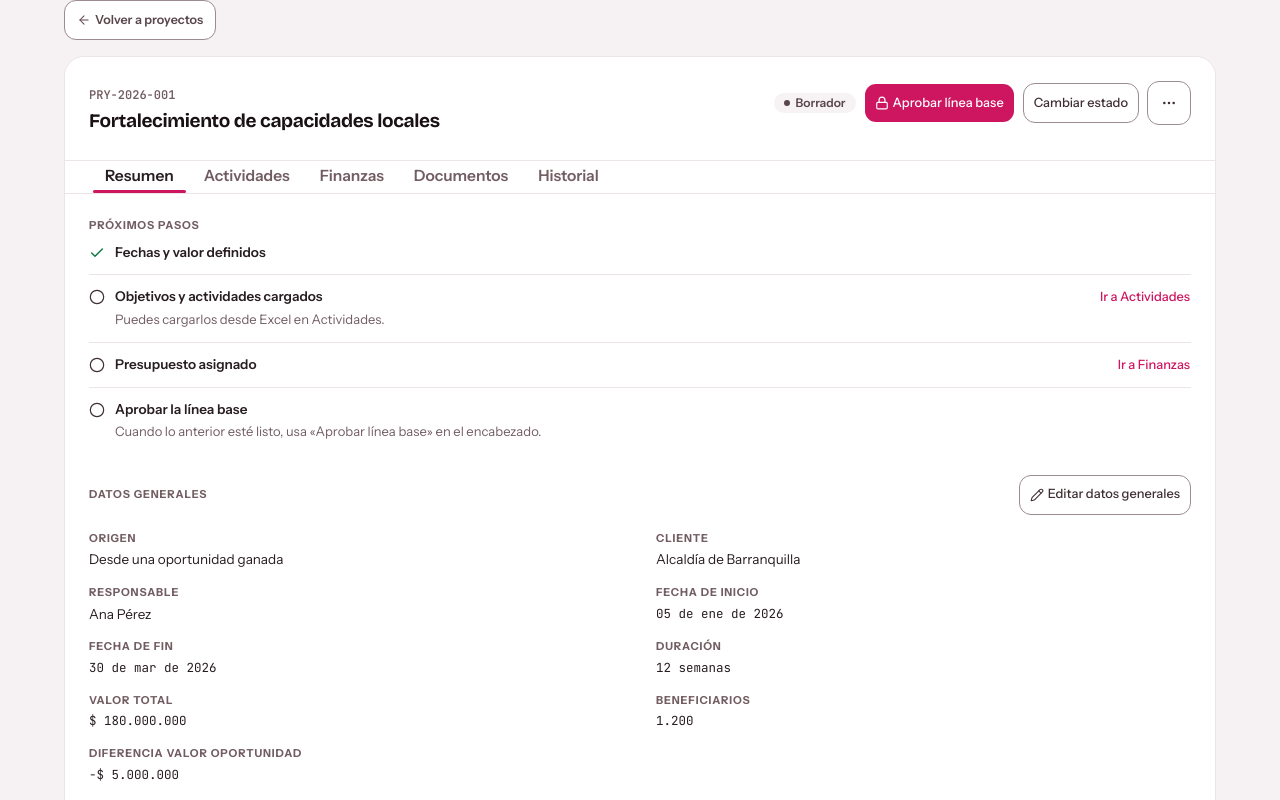
Test: ProjectFicha (page) › offers the Excel template controls in the structure header only for a manager on a draft
Click the tab "Actividades" at (247, 176), box 191,164 -> 303,189
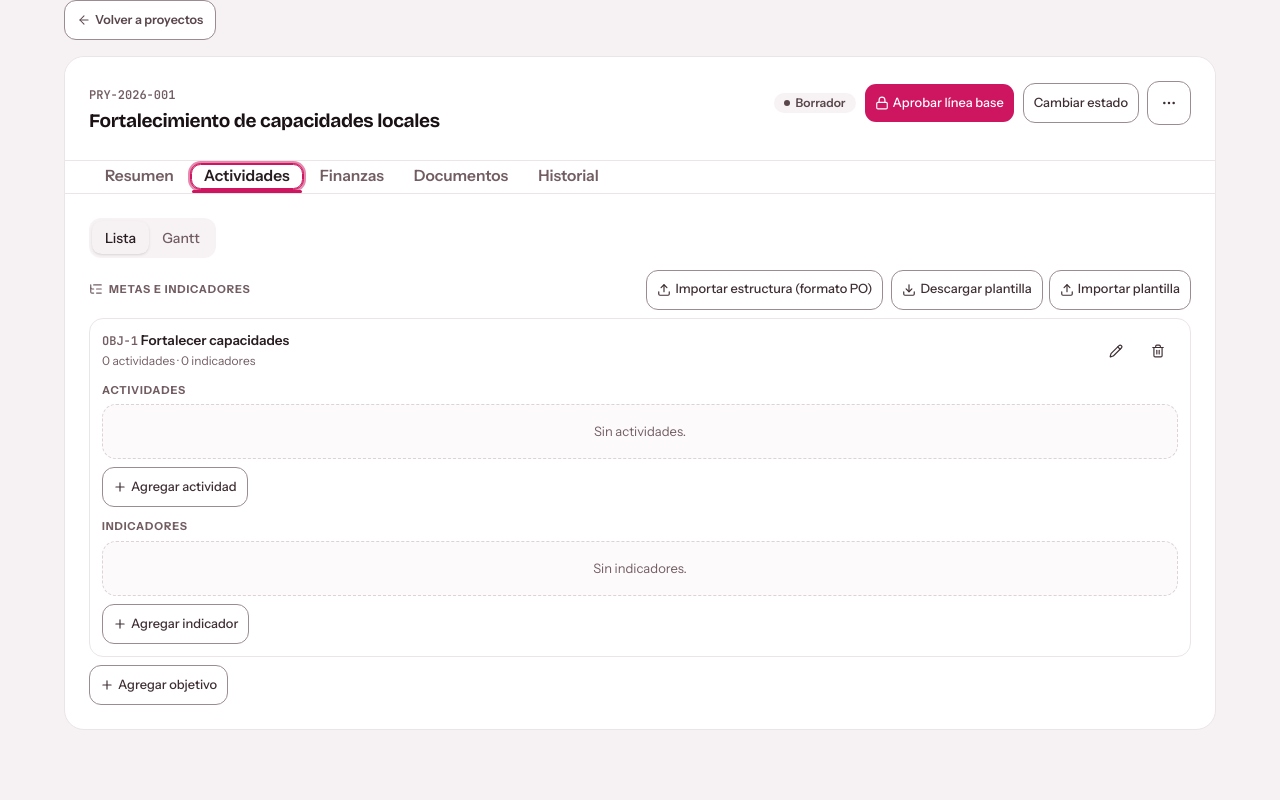
Result: the element with test id "estructura-plantilla" shows "Descargar plantilla" at 892,270 -> 1043,310
Result: the element with test id "estructura-plantilla" shows "Importar plantilla" at 1049,270 -> 1191,310
